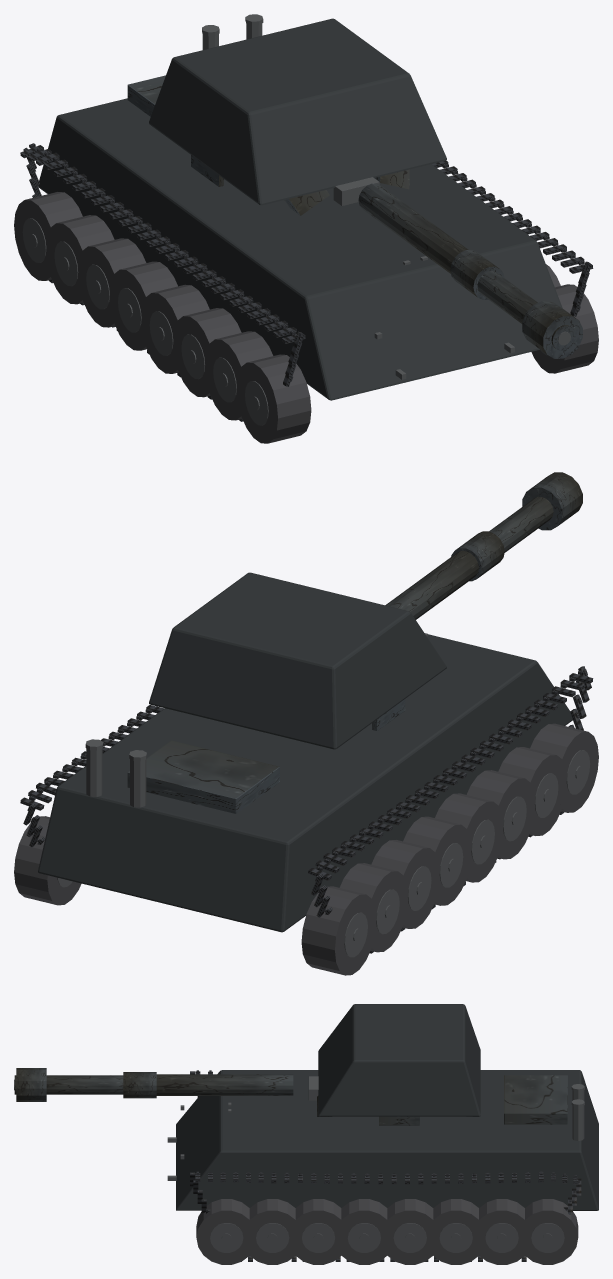
File: colossus_LOD0.glb
3 renders of one model, top to bottom at view 1: azimuth 30°, elevation 25°; view 2: azimuth 150°, elevation 25°; view 3: azimuth 270°, elevation 25°, orthographic. The views are drawn at different scales.
Parts seen in each view (by area): view 1: HullMesh, TurretMesh, Wheels_L, TrackL, Gun_tube1, TrackR, Wheels_R, Gun_brk, Gun_tube2, Gun_ext; view 2: HullMesh, TurretMesh, Wheels_L, TrackL, Gun_tube1, Wheels_R, TrackR, Gun_brk, Gun_tube2, Gun_ext, exh1, exh-1; view 3: HullMesh, Wheels_R, TurretMesh, Gun_tube1, TrackR, Gun_tube2, Gun_brk, Gun_ext, exh1.
Part boxes in pixels (x1=…): HullMesh: x1=38, y1=75, x2=562, y2=400; TurretMesh: x1=149, y1=18, x2=446, y2=215; Wheels_L: x1=14, y1=192, x2=311, y2=443; TrackL: x1=20, y1=143, x2=305, y2=421; Gun_tube1: x1=358, y1=183, x2=468, y2=273; TrackR: x1=432, y1=160, x2=593, y2=316; Wheels_R: x1=531, y1=264, x2=598, y2=373; Gun_brk: x1=522, y1=301, x2=582, y2=358; Gun_tube2: x1=477, y1=271, x2=575, y2=350; Gun_ext: x1=450, y1=250, x2=504, y2=299; HullMesh: x1=38, y1=633, x2=572, y2=932; TurretMesh: x1=149, y1=572, x2=446, y2=749; Wheels_L: x1=301, y1=723, x2=598, y2=975; TrackL: x1=308, y1=666, x2=593, y2=953; Gun_tube1: x1=385, y1=551, x2=478, y2=619; Wheels_R: x1=14, y1=816, x2=81, y2=905; TrackR: x1=20, y1=705, x2=163, y2=846; Gun_brk: x1=522, y1=472, x2=582, y2=530; Gun_tube2: x1=489, y1=496, x2=553, y2=552; Gun_ext: x1=451, y1=531, x2=504, y2=581; exh1: x1=86, y1=748, x2=102, y2=796; exh-1: x1=130, y1=759, x2=146, y2=807; HullMesh: x1=167, y1=1070, x2=598, y2=1210; Wheels_R: x1=196, y1=1199, x2=578, y2=1264; TurretMesh: x1=308, y1=1004, x2=480, y2=1125; Gun_tube1: x1=156, y1=1074, x2=293, y2=1095; TrackR: x1=190, y1=1171, x2=581, y2=1261; Gun_tube2: x1=14, y1=1075, x2=123, y2=1094; Gun_brk: x1=16, y1=1068, x2=46, y2=1101; Gun_ext: x1=123, y1=1072, x2=156, y2=1098; exh1: x1=572, y1=1106, x2=584, y2=1140.
Bounding box in the file's own units: 4.47 × 3.23 × 9.65.
5 materials, 3 textured.
